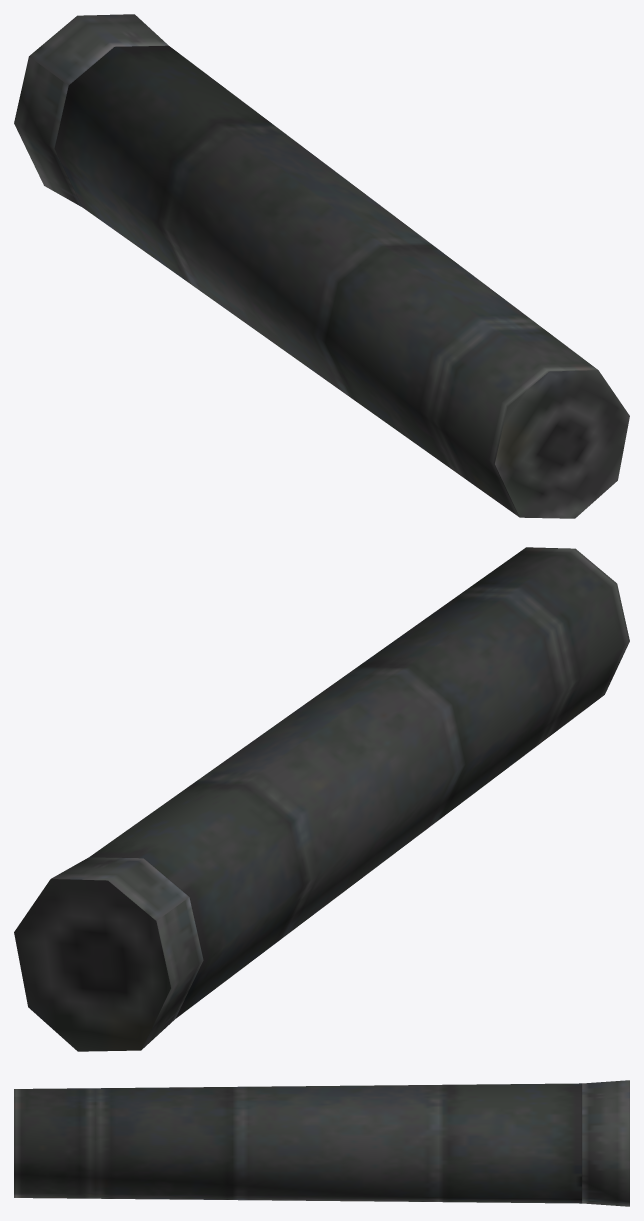
The model's file is SMG_cfq_qt_01_LOD2_Stock_LOD_(000016).glb.
3 views of the same model, one above another, from view 1: azimuth 30°, elevation 25°; view 2: azimuth 150°, elevation 25°; view 3: azimuth 270°, elevation 25° (orthographic). The views are drawn at different scales.
Parts seen in each view (by area): view 1: cfq_qt_01_LOD2; view 2: cfq_qt_01_LOD2; view 3: cfq_qt_01_LOD2.
Boxes of the visible parts, x1=… form: cfq_qt_01_LOD2: x1=14, y1=14, x2=629, y2=518; cfq_qt_01_LOD2: x1=14, y1=547, x2=629, y2=1051; cfq_qt_01_LOD2: x1=14, y1=1080, x2=629, y2=1206.
Size of the model in its own units: 0.0679 by 0.0737 by 0.3515.
Materials: 1 (1 with a texture image).
